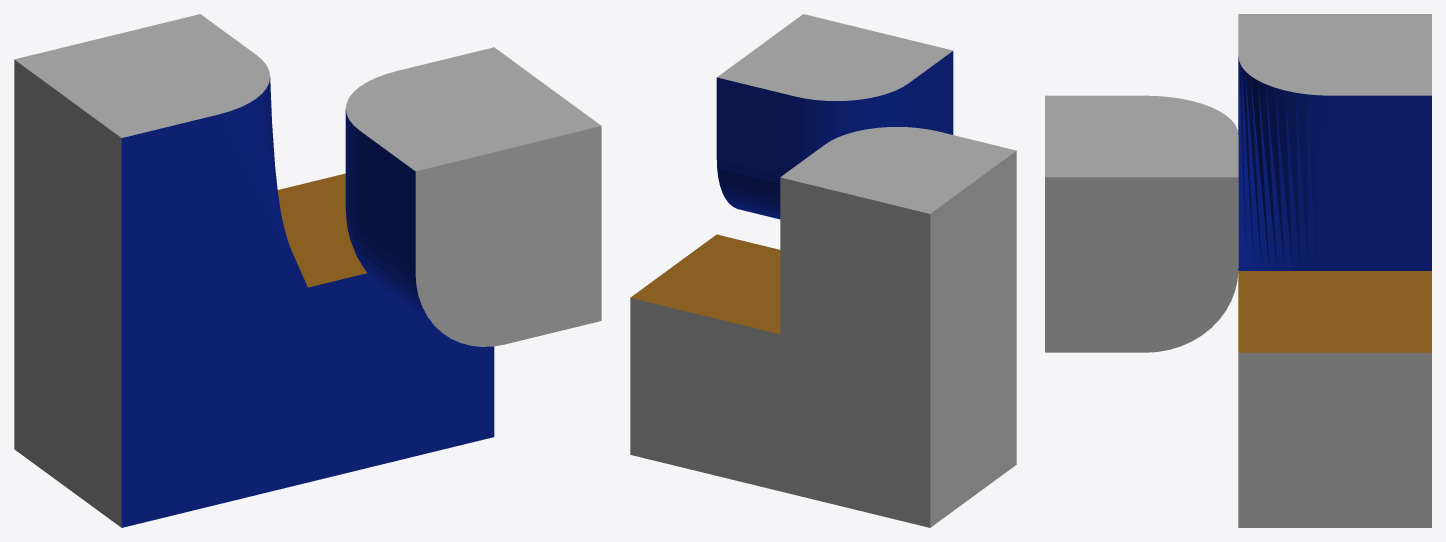
The model's file is case_83.fbx.
3 views of the same model, side by side, from view 1: azimuth 30°, elevation 25°; view 2: azimuth 150°, elevation 25°; view 3: azimuth 270°, elevation 25° (orthographic). The views are drawn at different scales.
Visible parts, largest first — view 1: case_83; view 2: case_83; view 3: case_83.
Boxes of the visible parts, left/top/right/bottom form: case_83: left=14, top=14, right=601, bottom=527; case_83: left=630, top=14, right=1016, bottom=527; case_83: left=1045, top=14, right=1431, bottom=527.
Size of the model in its own units: 1 by 1 by 1.
